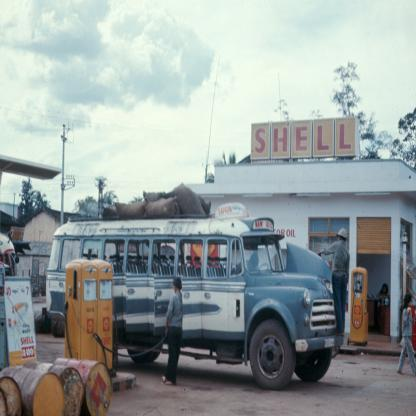Bus: (48, 213, 345, 387)
Truck: (53, 214, 351, 395)
